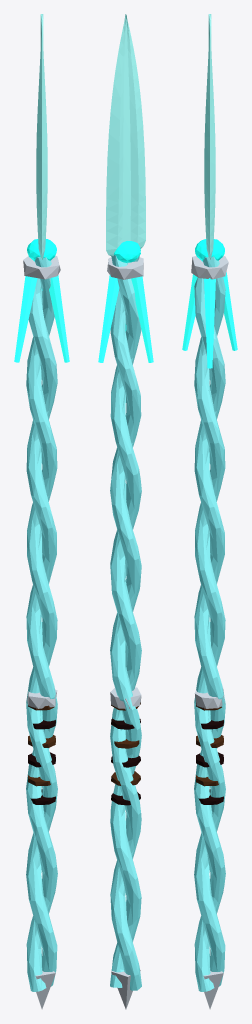
File: spear_2.glb
The picture shows the model from 3 angles, left to right: view 1: azimuth 90°, elevation 25°; view 2: azimuth 210°, elevation 25°; view 3: azimuth 270°, elevation 25°; orthographic projection.
Parts seen in each view (by area): view 1: part_02, part_01, part_12, part_15, part_14, part_10, part_16, part_11, part_09, part_03, part_05, part_07; view 2: part_01, part_02, part_12, part_15, part_13, part_10, part_16, part_09, part_11, part_06, part_04, part_07 (+1 smaller); view 3: part_01, part_02, part_12, part_13, part_10, part_15, part_14, part_16, part_11, part_09, part_03, part_05.
Boxes of the visible parts, x1=… form: part_02: x1=26, y1=257, x2=57, y2=986; part_01: x1=26, y1=278, x2=57, y2=991; part_12: x1=36, y1=14, x2=47, y2=259; part_15: x1=14, y1=276, x2=37, y2=362; part_14: x1=49, y1=275, x2=69, y2=362; part_10: x1=23, y1=256, x2=60, y2=279; part_16: x1=27, y1=239, x2=56, y2=261; part_11: x1=27, y1=689, x2=57, y2=708; part_09: x1=35, y1=971, x2=55, y2=1009; part_03: x1=30, y1=789, x2=55, y2=804; part_05: x1=28, y1=752, x2=55, y2=767; part_07: x1=33, y1=720, x2=55, y2=729; part_01: x1=110, y1=255, x2=141, y2=990; part_02: x1=110, y1=249, x2=141, y2=987; part_12: x1=106, y1=14, x2=145, y2=256; part_15: x1=131, y1=276, x2=153, y2=362; part_13: x1=98, y1=275, x2=119, y2=362; part_10: x1=107, y1=257, x2=143, y2=279; part_16: x1=114, y1=241, x2=140, y2=262; part_09: x1=111, y1=969, x2=140, y2=1009; part_11: x1=110, y1=687, x2=141, y2=708; part_06: x1=114, y1=739, x2=139, y2=748; part_04: x1=111, y1=771, x2=140, y2=785; part_07: x1=111, y1=718, x2=140, y2=729; part_01: x1=194, y1=256, x2=225, y2=986; part_02: x1=194, y1=277, x2=225, y2=991; part_12: x1=204, y1=14, x2=215, y2=259; part_13: x1=204, y1=278, x2=215, y2=368; part_10: x1=191, y1=256, x2=228, y2=279; part_15: x1=223, y1=272, x2=237, y2=350; part_14: x1=182, y1=274, x2=197, y2=350; part_16: x1=195, y1=239, x2=224, y2=261; part_11: x1=194, y1=688, x2=224, y2=708; part_09: x1=203, y1=971, x2=223, y2=1009; part_03: x1=198, y1=789, x2=223, y2=804; part_05: x1=196, y1=752, x2=223, y2=767.
Size of the model in its own units: 0.0949 by 1.89 by 0.0952.
